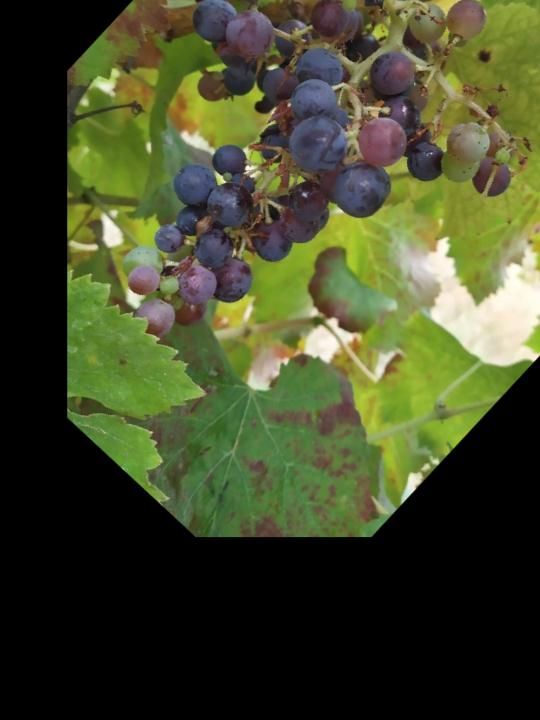grape: (1, 0, 540, 447)
